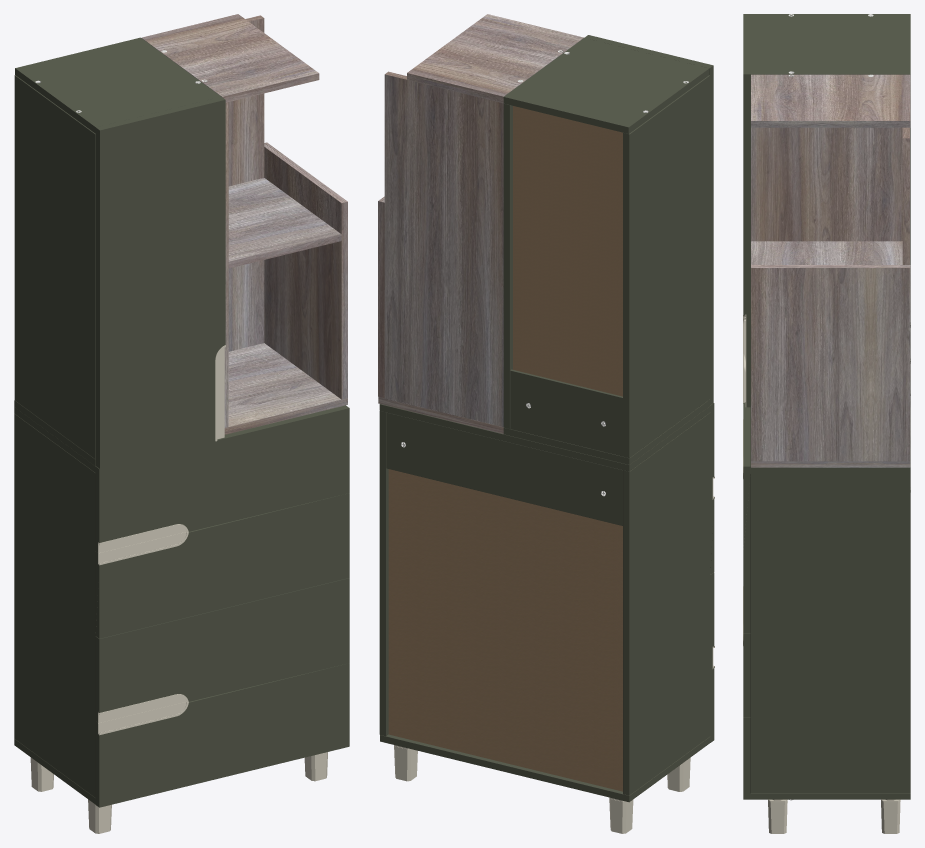
The picture shows the model from 3 angles, left to right: view 1: azimuth 30°, elevation 25°; view 2: azimuth 150°, elevation 25°; view 3: azimuth 270°, elevation 25°; orthographic projection.
Visible parts, largest first — view 1: SketchUp.606, Cube.001, Cube.007, Cube.003, group_0.115; view 2: group_0.369, Cube.001, Cube.007, group_0.002, Cube.003, Cube.004, Cube.002, Cube.005, Cube.006, group_0.115, SketchUp.606; view 3: Cube.007, Cube.002, Cube.001, SketchUp.606, group_0.115, Cube.006, Cube.005.
Part boxes in pixels (x1,y1,x2,y2): SketchUp.606: (95,405,349,807); Cube.001: (14,37,225,468); Cube.007: (141,14,347,434); Cube.003: (14,414,97,797); group_0.115: (30,345,327,833); group_0.369: (388,469,622,791); Cube.001: (503,35,713,464); Cube.007: (378,14,583,433); group_0.002: (513,106,622,396); Cube.003: (623,413,710,795); Cube.004: (386,412,622,525); Cube.002: (379,411,388,736); Cube.005: (380,734,710,802); Cube.006: (379,404,710,471); group_0.115: (394,476,714,833); SketchUp.606: (710,403,714,742); Cube.007: (751,74,910,467); Cube.002: (750,473,910,792); Cube.001: (743,14,910,407); SketchUp.606: (743,402,750,799); group_0.115: (743,314,900,833); Cube.006: (750,407,910,473); Cube.005: (750,793,910,799).
Size of the model in its own units: 0.7034 by 1.9 by 0.4114.
9 materials, 3 textured.
